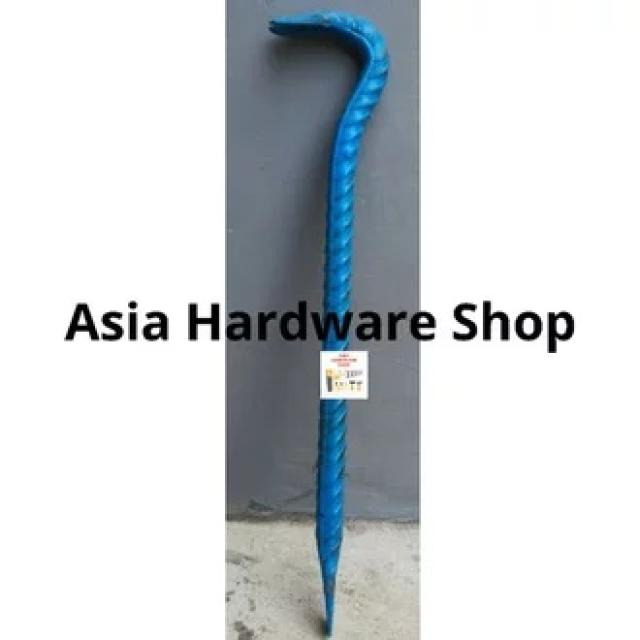Linggis: (268, 7, 392, 638)
